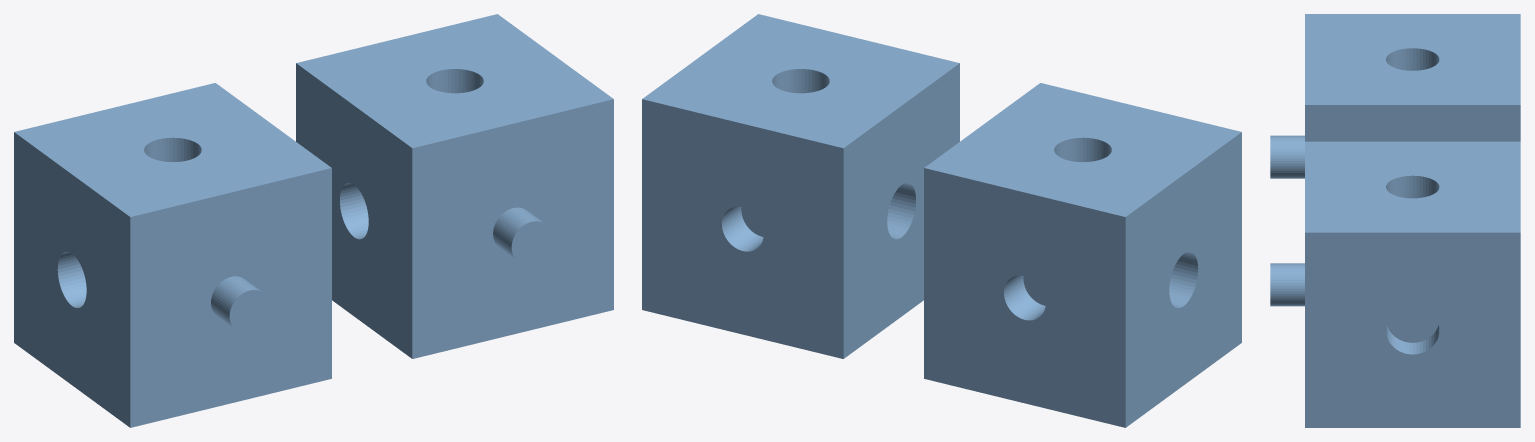
The model's file is ep3-magnetic-blocks.glb.
The picture shows the model from 3 angles, left to right: view 1: azimuth 30°, elevation 25°; view 2: azimuth 150°, elevation 25°; view 3: azimuth 270°, elevation 25°; orthographic projection. The views are drawn at different scales.
Visible parts, largest first — view 1: world; view 2: world; view 3: world.
Boxes of the visible parts, x1=… form: world: x1=14, y1=14, x2=613, y2=427; world: x1=642, y1=14, x2=1241, y2=427; world: x1=1270, y1=14, x2=1520, y2=427.
Bounding box in the file's own units: 60 × 25 × 29.
